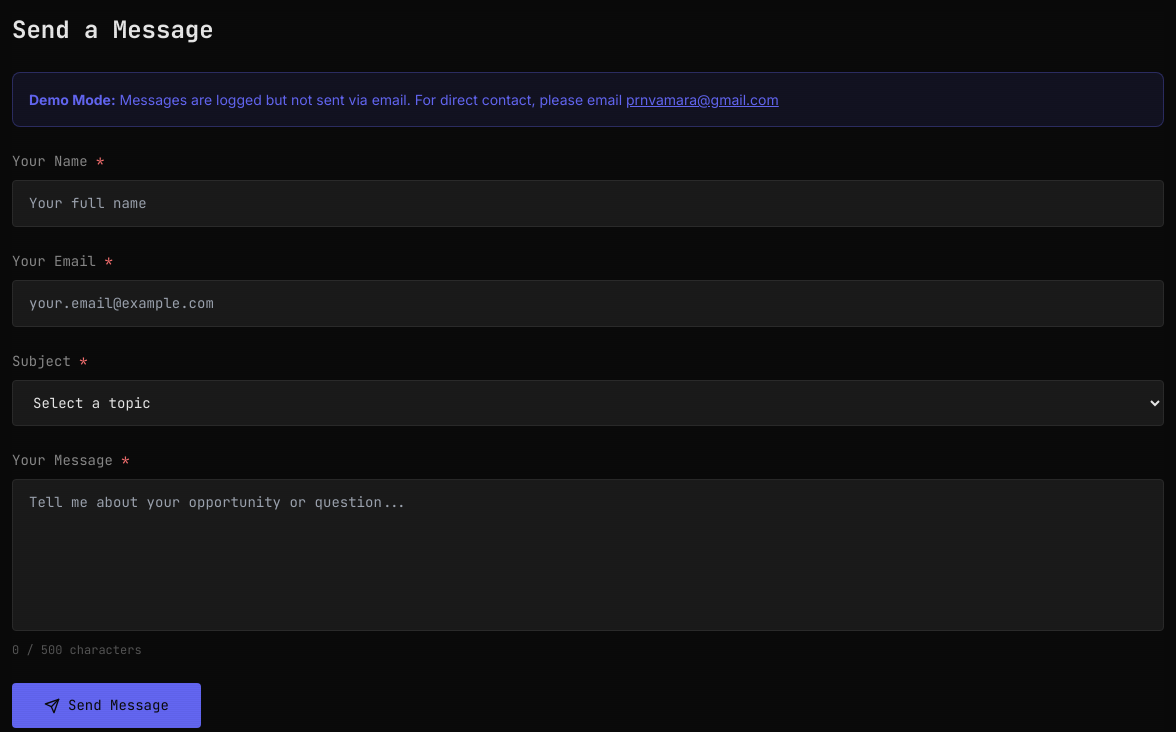
Scenario: ContactForm › should clear error when user starts typing
The width and height of the screenshot is (1176, 732).
# Submit to show error
Click the button "Send Message": (106, 706) [12, 683, 201, 728]
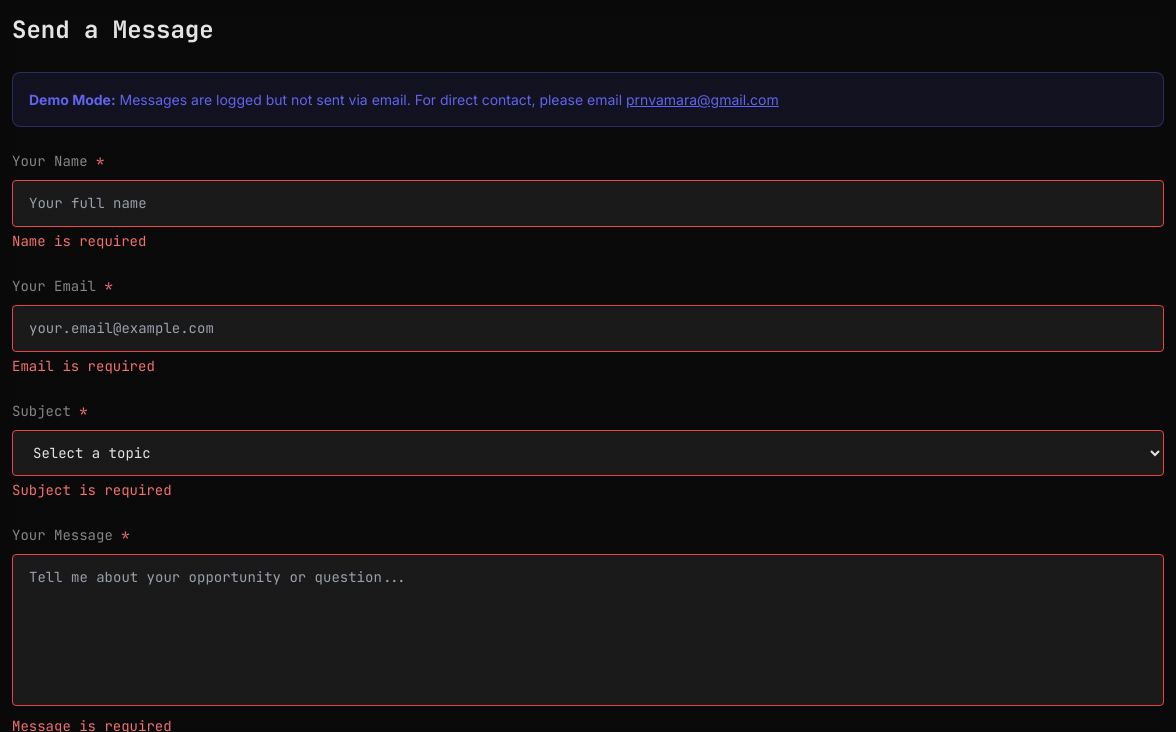
Result: the text "Name is required" is shown at [12, 232, 146, 250]
# Start typing to clear error
In the field labelled "Your Name *": (588, 204) [12, 180, 1164, 227], type "John"
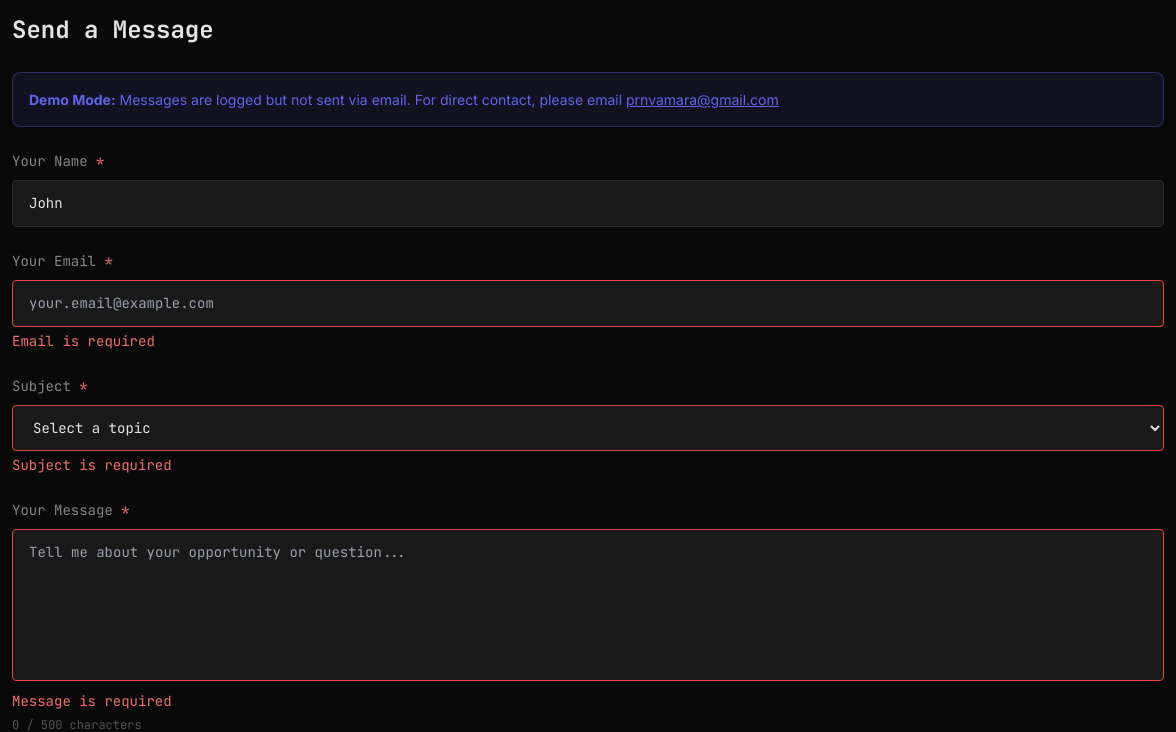
Result: the text "Name is required" is gone
